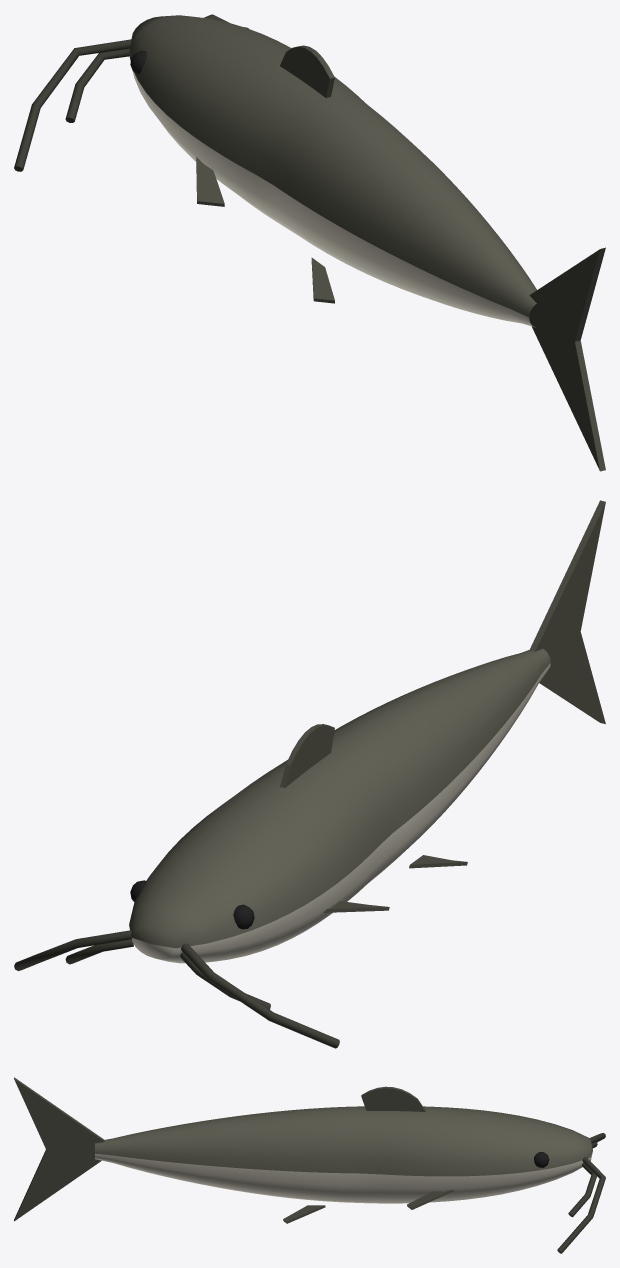
Rendered from catfish.fbx.
3 views of the same model, one above another, from view 1: azimuth 30°, elevation 25°; view 2: azimuth 150°, elevation 25°; view 3: azimuth 270°, elevation 25° (orthographic). The views are drawn at different scales.
Visible parts, largest first — view 1: Back, Fin, Belly, Barbel; view 2: Back, Fin, Belly, Barbel; view 3: Back, Belly, Fin, Barbel.
Part boxes in pixels (x1,y1,x2,y2): Back: [129, 15, 536, 317]; Fin: [196, 45, 605, 471]; Belly: [132, 71, 535, 327]; Barbel: [14, 14, 229, 171]; Back: [129, 649, 550, 948]; Fin: [280, 500, 605, 912]; Belly: [132, 663, 550, 963]; Barbel: [14, 930, 339, 1048]; Back: [95, 1106, 592, 1176]; Belly: [95, 1152, 592, 1203]; Fin: [14, 1077, 453, 1223]; Barbel: [557, 1133, 605, 1253].
Size of the model in its own units: 194 by 127 by 478.
